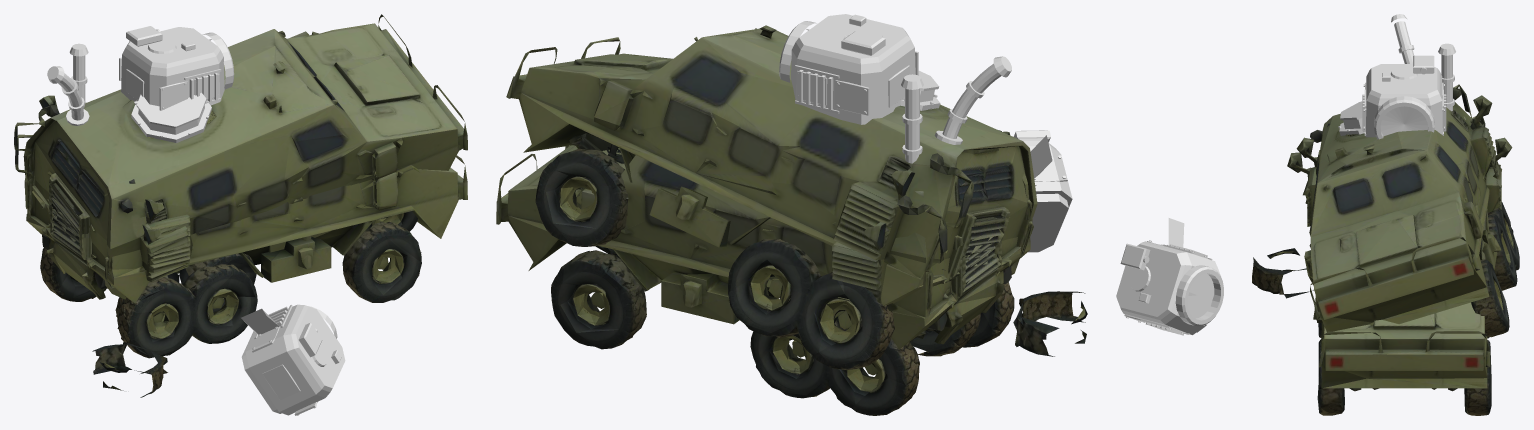
Rendered from aa_remetz.glb.
3 views of the same model, side by side, from view 1: azimuth 30°, elevation 25°; view 2: azimuth 150°, elevation 25°; view 3: azimuth 270°, elevation 25° (orthographic). The views are drawn at different scales.
Visible parts, largest first — view 1: WRECK_hull_hull, hull_hull, hull_rubber, WRECK_turret_hull, turret_hull, WRECK_hull_metal, WRECK_hull_rubber, turret_metal, WRECK_turret_metal, hull_metal; view 2: WRECK_hull_hull, hull_hull, WRECK_hull_rubber, hull_rubber, turret_hull, WRECK_turret_hull, turret_metal, WRECK_hull_metal, hull_metal; view 3: WRECK_hull_hull, hull_hull, WRECK_turret_hull, turret_hull, WRECK_turret_metal, WRECK_hull_rubber, turret_metal, WRECK_hull_metal, turret_glass, hull_metal.
Boxes of the visible parts, box(x1,y1,x2,y2) form: WRECK_hull_hull: box(14, 14, 467, 318); hull_hull: box(15, 134, 467, 357); hull_rubber: box(50, 222, 420, 358); WRECK_turret_hull: box(241, 304, 345, 415); turret_hull: box(119, 27, 224, 110); WRECK_hull_metal: box(47, 66, 211, 142); WRECK_hull_rubber: box(92, 211, 417, 397); turret_metal: box(126, 26, 234, 109); WRECK_turret_metal: box(252, 305, 341, 415); hull_metal: box(69, 43, 88, 103); WRECK_hull_hull: box(506, 25, 1037, 369); hull_hull: box(496, 130, 1032, 414); WRECK_hull_rubber: box(535, 151, 1087, 369); hull_rubber: box(551, 255, 1001, 415); turret_hull: box(791, 14, 918, 124); WRECK_turret_hull: box(1019, 135, 1072, 252); turret_metal: box(779, 14, 885, 114); WRECK_hull_metal: box(900, 56, 1011, 144); hull_metal: box(901, 74, 923, 163); WRECK_hull_hull: box(1287, 84, 1515, 337); hull_hull: box(1296, 116, 1512, 415); WRECK_turret_hull: box(1116, 218, 1221, 335); turret_hull: box(1365, 64, 1443, 137); WRECK_turret_metal: box(1120, 240, 1223, 335); WRECK_hull_rubber: box(1252, 202, 1519, 336); turret_metal: box(1362, 55, 1446, 139); WRECK_hull_metal: box(1338, 14, 1414, 135); turret_glass: box(1380, 106, 1427, 136); hull_metal: box(1438, 43, 1455, 111).
Size of the model in its own units: 7.88 by 5.45 by 7.56.
1 material, 1 textured.
